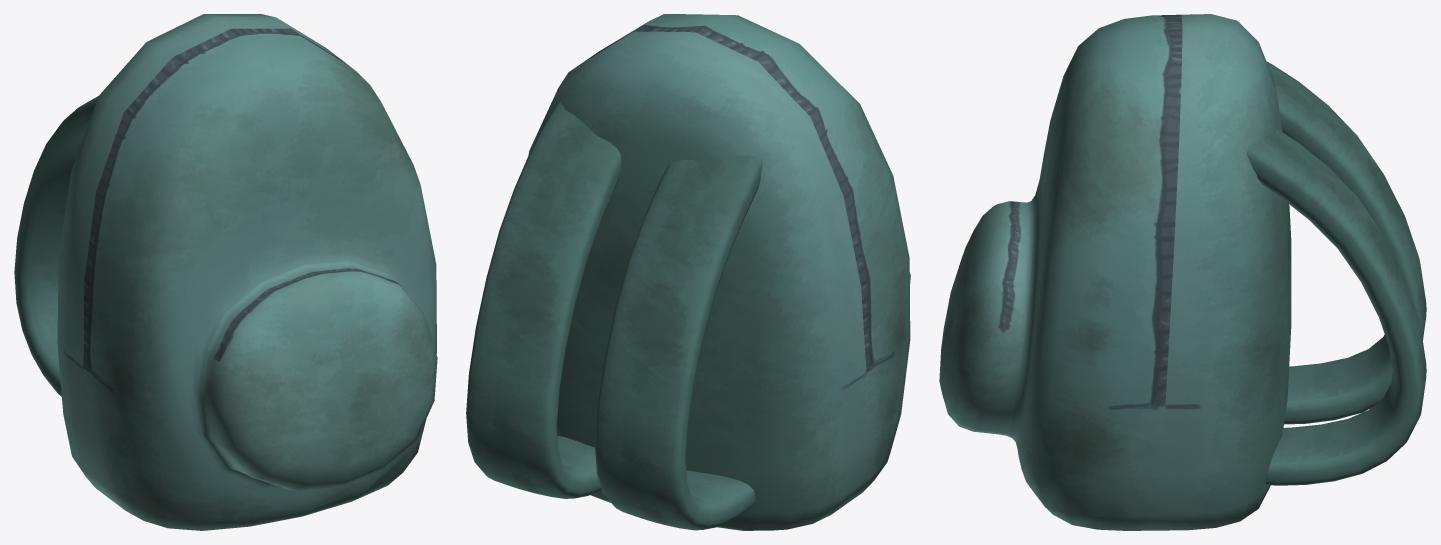
Rendered from school_bag_dirty.fbx.
3 renders of one model, left to right at view 1: azimuth 30°, elevation 25°; view 2: azimuth 150°, elevation 25°; view 3: azimuth 270°, elevation 25°, orthographic. The views are drawn at different scales.
Parts seen in each view (by area): view 1: pCube31, pCube32; view 2: pCube31, pCube32, pCube35; view 3: pCube31, pCube35, pCube32.
Part boxes in pixels (x1,y1,x2,y2): pCube31: (57, 14, 437, 530); pCube32: (14, 96, 98, 396); pCube31: (528, 14, 910, 530); pCube32: (594, 155, 762, 530); pCube35: (466, 102, 621, 498); pCube31: (939, 14, 1291, 530); pCube35: (1246, 129, 1426, 485); pCube32: (1266, 61, 1426, 424).
Size of the model in its own units: 17.93 by 24.09 by 23.96.
Materials: 2 (2 with a texture image).
